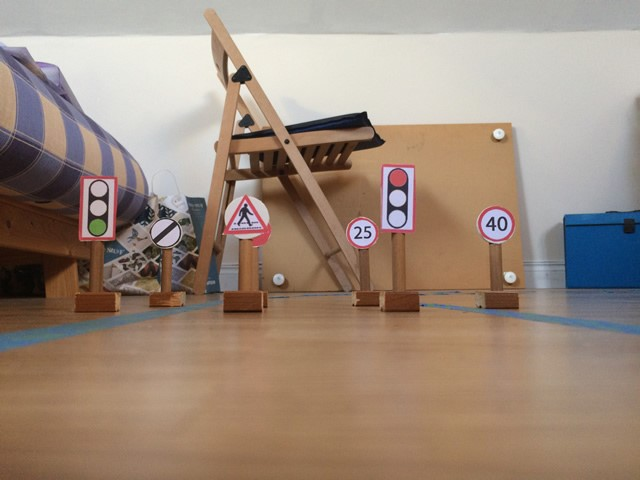Green Traffic Light: (79, 173, 117, 243)
Person Crossing: (221, 193, 271, 238)
Red Traffic Light: (379, 162, 417, 233)
Speed Limit 25: (342, 217, 379, 250)
Speed Limit 40: (478, 206, 517, 244)
Speed Limit 60: (148, 216, 182, 249)
